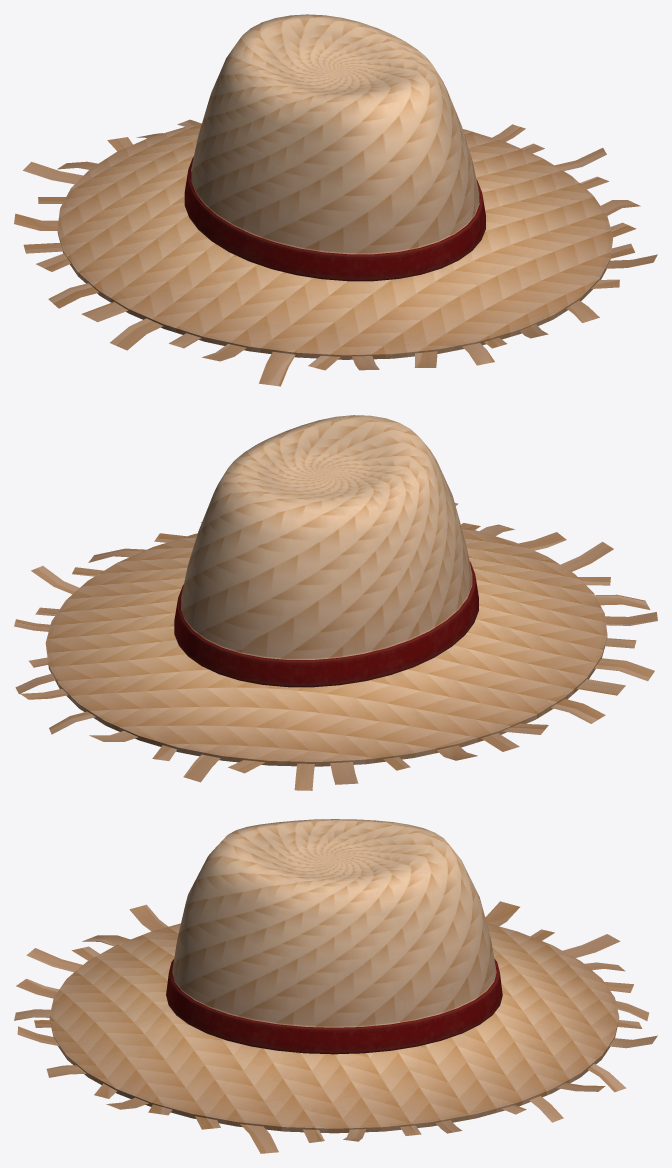
File: StrawHat.FBX
3 renders of one model, top to bottom at view 1: azimuth 30°, elevation 25°; view 2: azimuth 150°, elevation 25°; view 3: azimuth 270°, elevation 25°, orthographic. The views are drawn at different scales.
Parts seen in each view (by area): view 1: StrawHat; view 2: StrawHat; view 3: StrawHat.
Boxes of the visible parts, x1,y1,x2,y2 form: StrawHat: (14,14,657,386); StrawHat: (14,415,657,790); StrawHat: (14,819,657,1153).
Size of the model in its own units: 75.46 by 24.88 by 77.97.
1 material, 1 textured.
